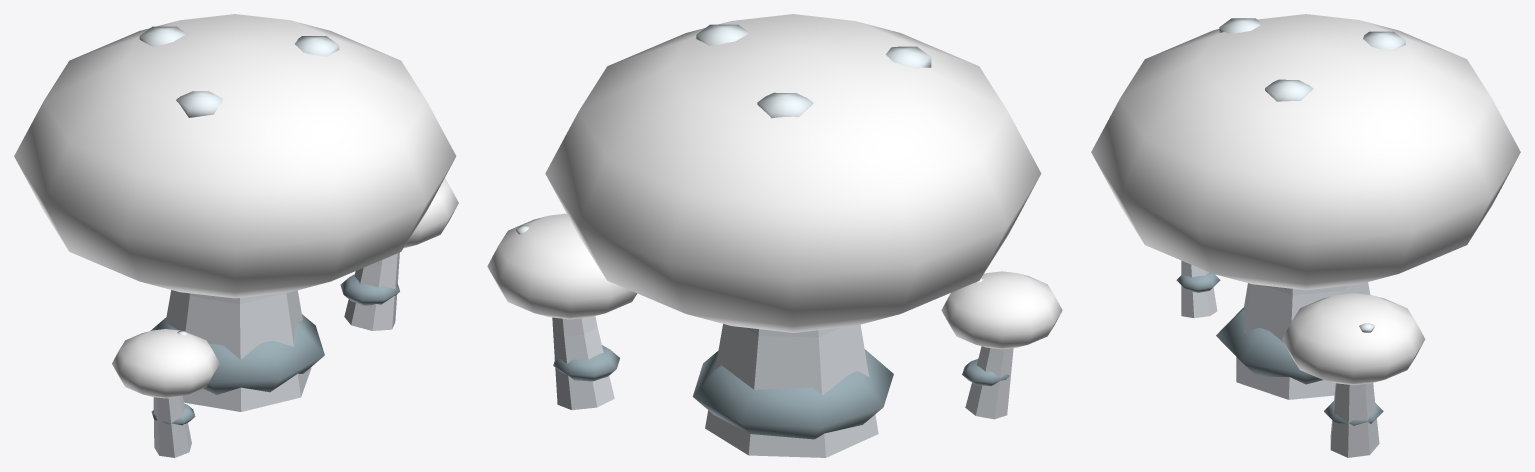
File: GlowMushroomSmall.fbx
The picture shows the model from 3 angles, left to right: view 1: azimuth 30°, elevation 25°; view 2: azimuth 150°, elevation 25°; view 3: azimuth 270°, elevation 25°; orthographic projection. The views are drawn at different scales.
Visible parts, largest first — view 1: Glow, Frame; view 2: Glow, Frame; view 3: Glow, Frame.
Boxes of the visible parts, x1,y1,x2,y2 form: Glow: [14, 14, 458, 398]; Frame: [139, 26, 399, 457]; Glow: [487, 14, 1062, 349]; Frame: [516, 24, 1013, 457]; Glow: [1091, 14, 1520, 385]; Frame: [1176, 18, 1405, 457].
Size of the model in its own units: 2.02 by 1.51 by 1.8.
Materials: 1 (1 with a texture image).
